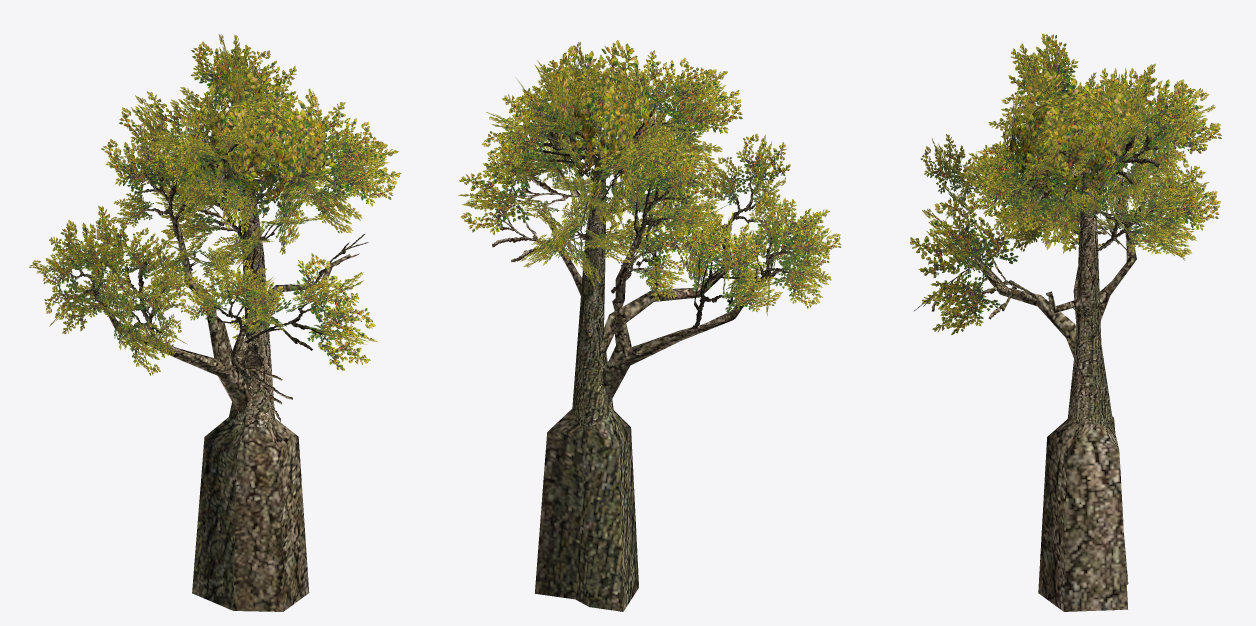
File: flora_tree_oak_aut_new_v2.glb
The picture shows the model from 3 angles, left to right: view 1: azimuth 30°, elevation 25°; view 2: azimuth 150°, elevation 25°; view 3: azimuth 270°, elevation 25°; orthographic projection. The views are drawn at different scales.
Parts seen in each view (by area): view 1: flora_tree_oak_aut_new_v2_part1, flora_tree_oak_aut_new_v2_part0; view 2: flora_tree_oak_aut_new_v2_part1, flora_tree_oak_aut_new_v2_part0; view 3: flora_tree_oak_aut_new_v2_part1, flora_tree_oak_aut_new_v2_part0.
Part boxes in pixels (bbox=[...]): flora_tree_oak_aut_new_v2_part1: bbox=[29, 34, 401, 375]; flora_tree_oak_aut_new_v2_part0: bbox=[71, 89, 368, 611]; flora_tree_oak_aut_new_v2_part1: bbox=[458, 40, 841, 315]; flora_tree_oak_aut_new_v2_part0: bbox=[492, 91, 798, 611]; flora_tree_oak_aut_new_v2_part1: bbox=[910, 33, 1221, 334]; flora_tree_oak_aut_new_v2_part0: bbox=[914, 95, 1172, 611].
Bounding box in the file's own units: 22.5 × 32.08 × 19.41.
Materials: 2 (2 with a texture image).
